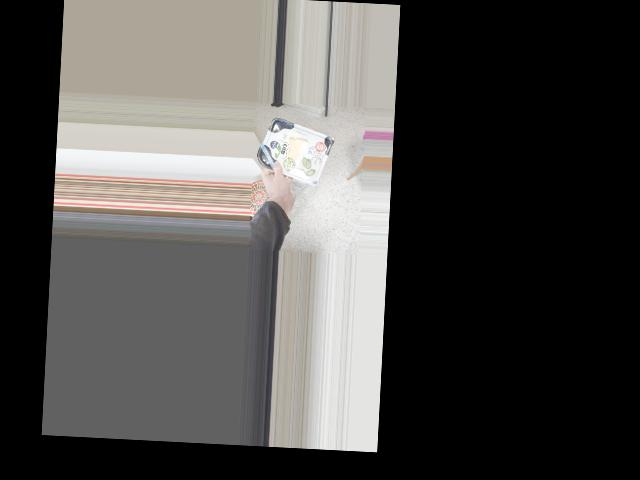cheese: (263, 126, 326, 176)
